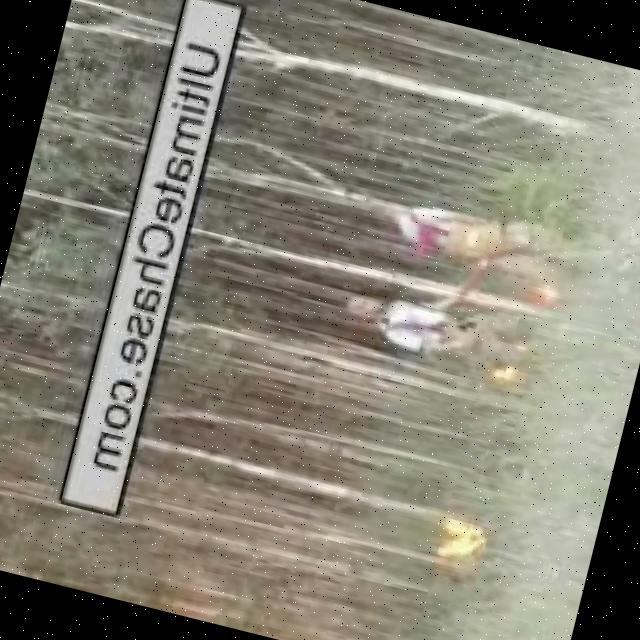fire: (425, 509, 492, 575), (484, 330, 538, 397), (533, 277, 563, 310)
